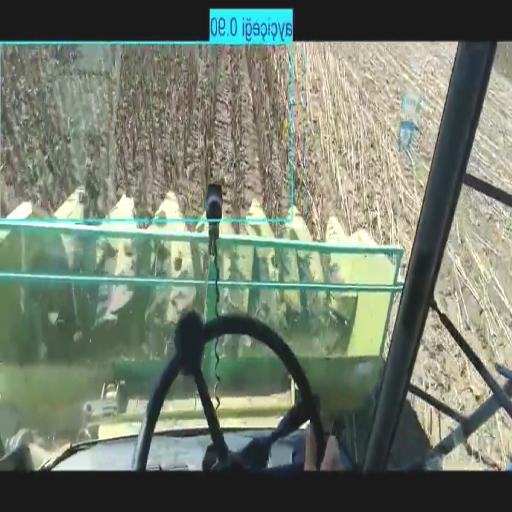ayc: (1, 46, 302, 216)
